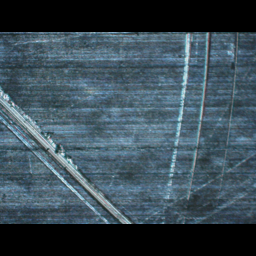d: (0, 85, 142, 224), (154, 32, 244, 215)
